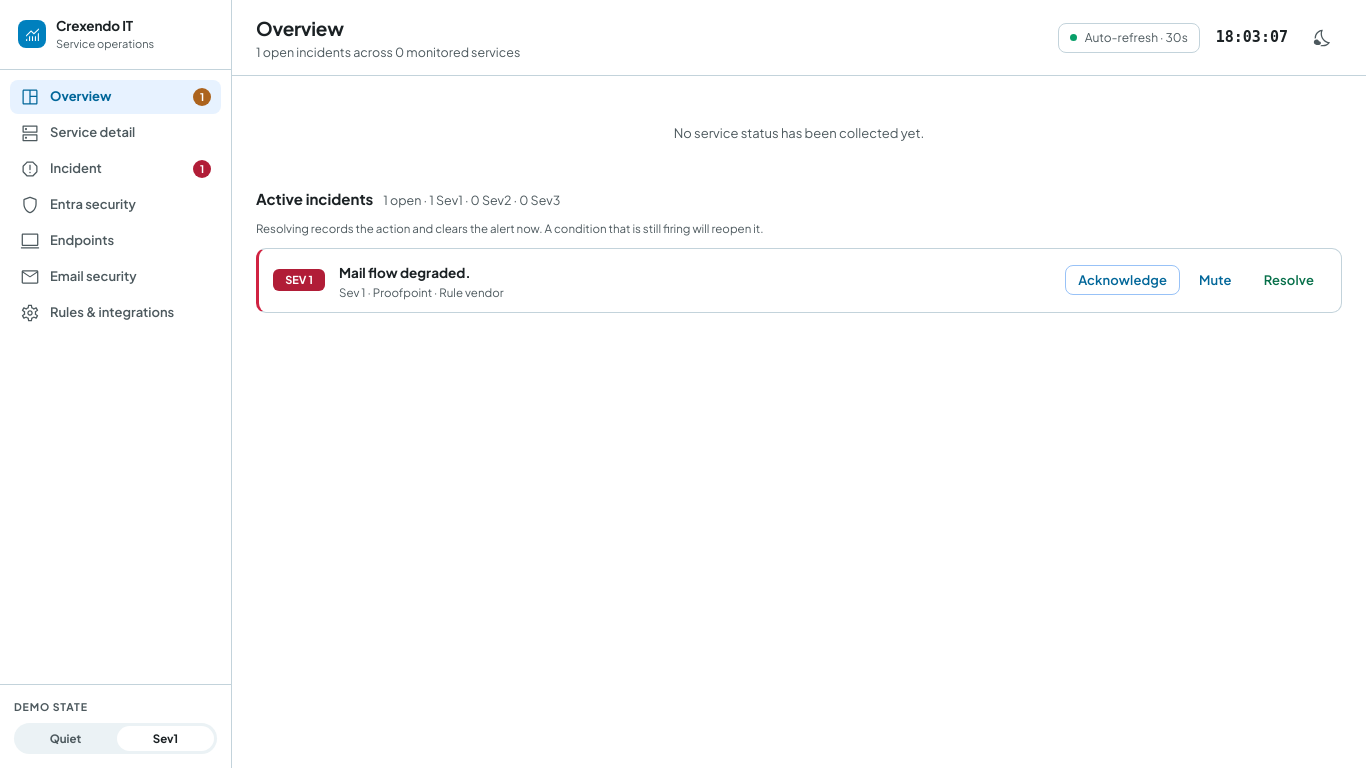
Scenario: a write that fails does not render as success › leaves the button exactly as it was, and says why
Check: the element with test id "alert-row" is shown, box [256,248,1342,313]
What coordinates should you click on to do the following:
click the button "Acknowledge"
I would click on:
 (1123, 280)
Its box is [1065,265,1180,295].
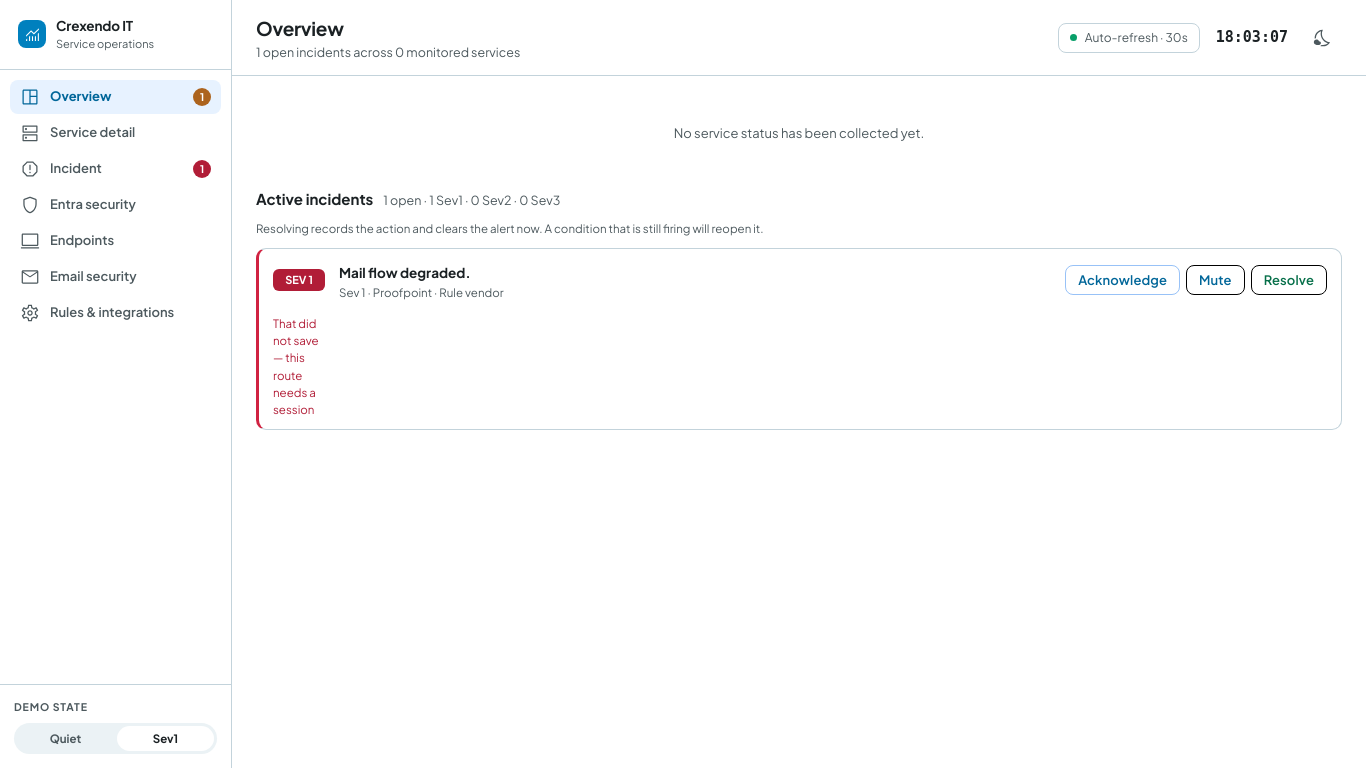
Check: the message with test id "write-error" shows "this route needs a session", box [273,316,319,417]
